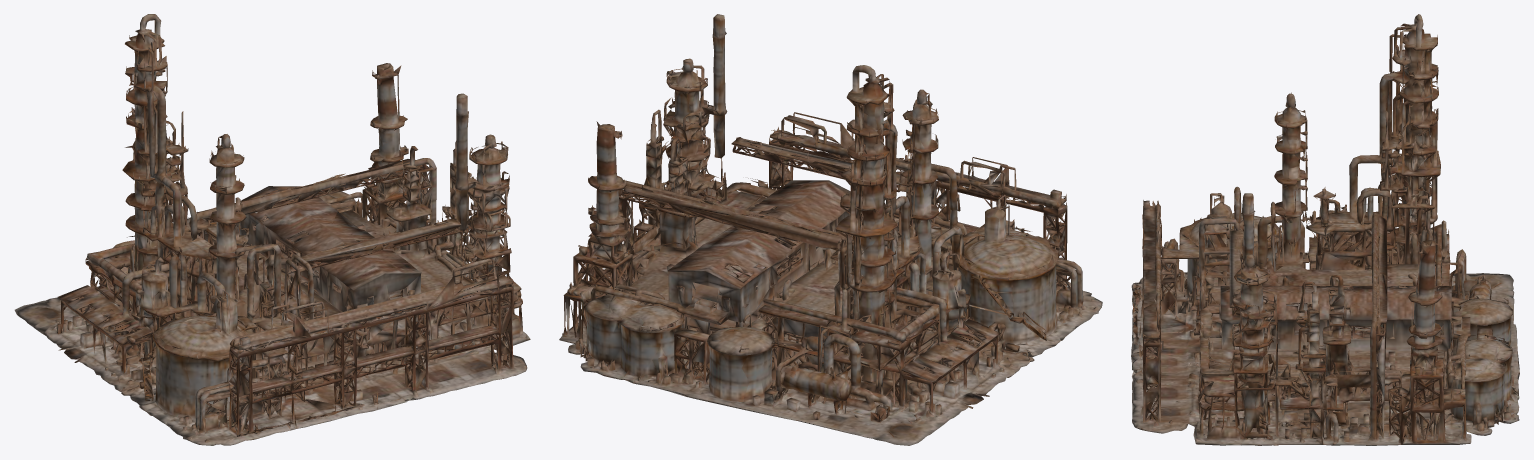
File: refinery.glb
3 views of the same model, side by side, from view 1: azimuth 30°, elevation 25°; view 2: azimuth 150°, elevation 25°; view 3: azimuth 270°, elevation 25° (orthographic). The views are drawn at different scales.
Visible parts, largest first — view 1: Mesh_0; view 2: Mesh_0; view 3: Mesh_0.
Boxes of the visible parts, box(x1,y1,x2,y2) form: Mesh_0: box(14, 14, 530, 445); Mesh_0: box(559, 14, 1102, 445); Mesh_0: box(1131, 14, 1519, 445).
Size of the model in its own units: 1.85 by 1.47 by 1.72.
1 material, 1 textured.
